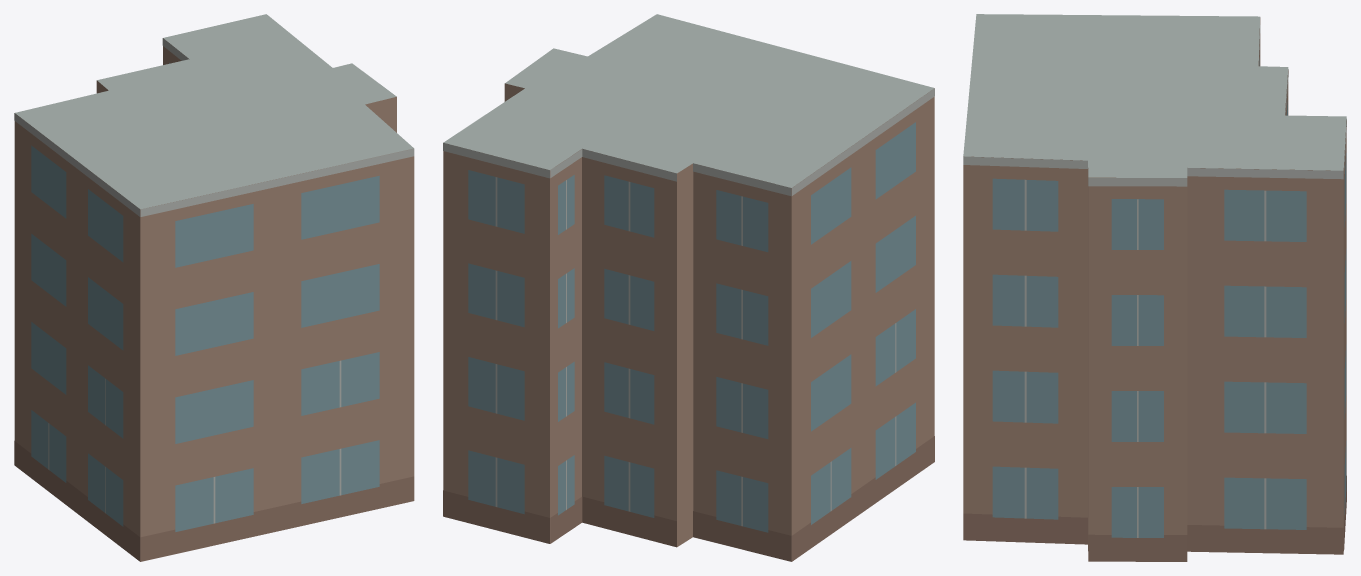
Rendered from survey-upis-32458238.glb.
3 views of the same model, side by side, from view 1: azimuth 30°, elevation 25°; view 2: azimuth 150°, elevation 25°; view 3: azimuth 270°, elevation 25° (orthographic). The views are drawn at different scales.
Visible parts, largest first — view 1: survey-upis-32458238.tmp; view 2: survey-upis-32458238.tmp; view 3: survey-upis-32458238.tmp.
Boxes of the visible parts, left/top/right/bottom form: survey-upis-32458238.tmp: left=14, top=14, right=414, bottom=561; survey-upis-32458238.tmp: left=443, top=14, right=934, bottom=561; survey-upis-32458238.tmp: left=963, top=14, right=1346, bottom=561.
Bounding box in the file's own units: 10.09 × 11 × 9.97.
